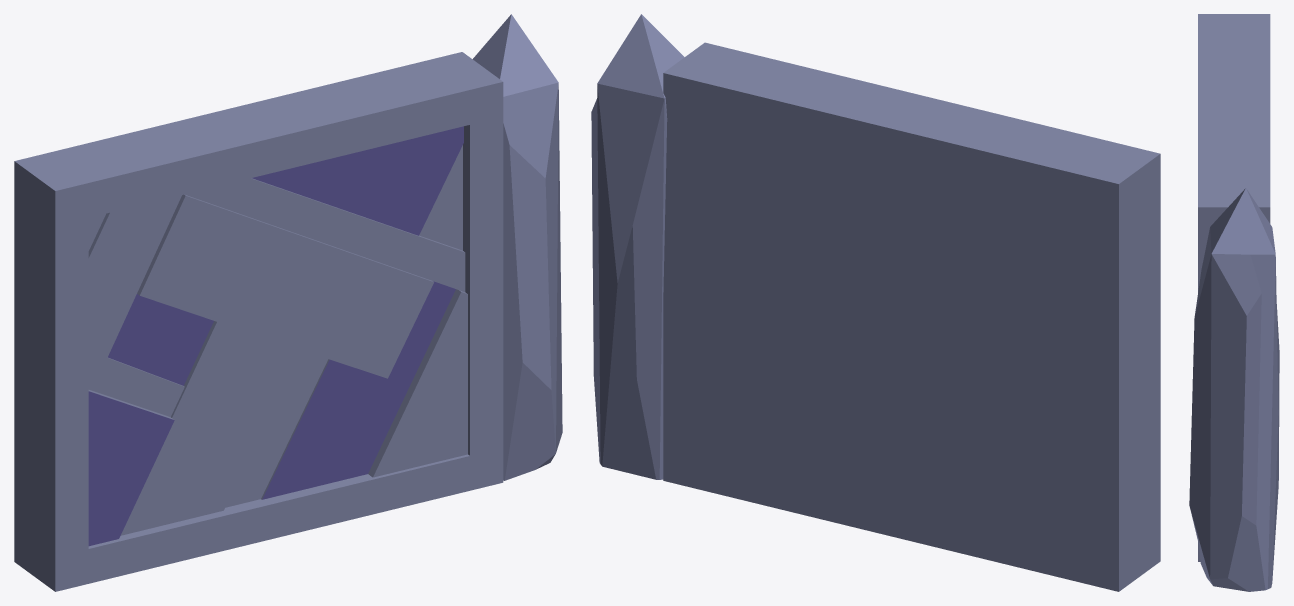
Rendered from crystal_wall.fbx.
3 views of the same model, side by side, from view 1: azimuth 30°, elevation 25°; view 2: azimuth 150°, elevation 25°; view 3: azimuth 270°, elevation 25° (orthographic). The views are drawn at different scales.
Parts seen in each view (by area): view 1: crystal wall; view 2: crystal wall; view 3: crystal wall.
Boxes of the visible parts, left/top/right/bottom form: crystal wall: left=14, top=14, right=562, bottom=591; crystal wall: left=591, top=14, right=1160, bottom=591; crystal wall: left=1189, top=14, right=1279, bottom=591.
Bounding box in the file's own units: 1259 × 1003 × 211.
